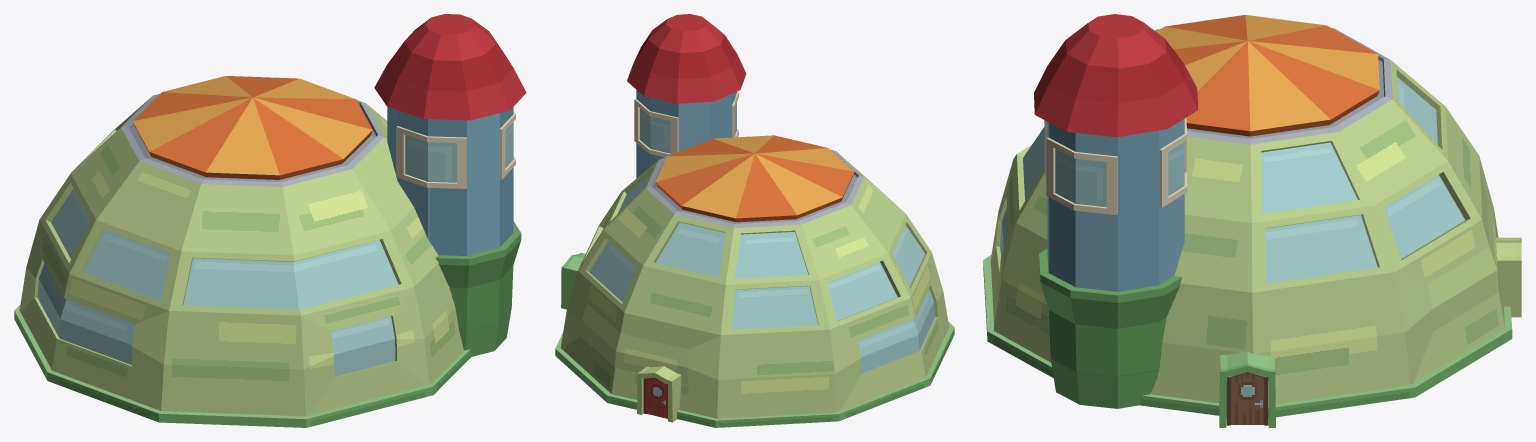
Rendered from f.nps_spherehouse_3.gltf.
3 renders of one model, left to right at view 1: azimuth 30°, elevation 25°; view 2: azimuth 150°, elevation 25°; view 3: azimuth 270°, elevation 25°, orthographic. The views are drawn at different scales.
Parts seen in each view (by area): view 1: s3_1; view 2: s3_1; view 3: s3_1.
Boxes of the visible parts, x1,y1,x2,y2 form: s3_1: (14, 14, 526, 427); s3_1: (555, 14, 954, 427); s3_1: (983, 14, 1521, 427).
Bounding box in the file's own units: 6.39 × 4.44 × 6.08.
Materials: 1 (1 with a texture image).
